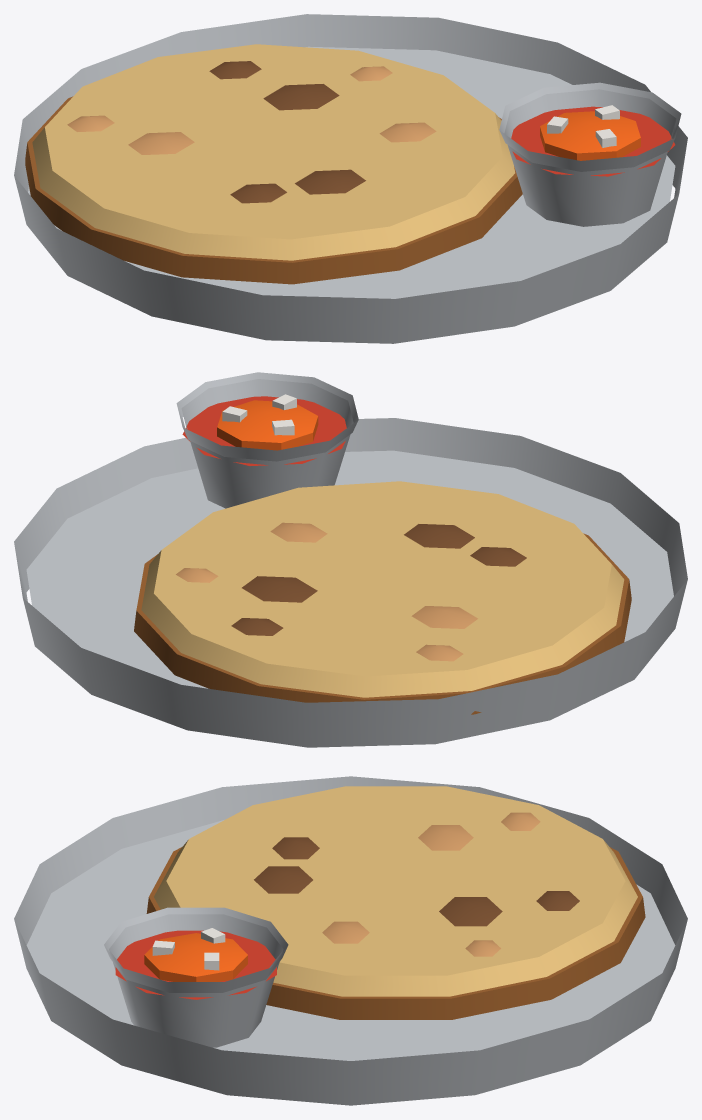
File: pass_lahsun_roti.glb
3 views of the same model, one above another, from view 1: azimuth 30°, elevation 25°; view 2: azimuth 150°, elevation 25°; view 3: azimuth 270°, elevation 25° (orthographic).
Parts seen in each view (by area): view 1: pass_lahsun_roti; view 2: pass_lahsun_roti; view 3: pass_lahsun_roti.
Boxes of the visible parts, box(x1,y1,x2,y2) form: pass_lahsun_roti: box(14, 14, 687, 343); pass_lahsun_roti: box(14, 372, 687, 747); pass_lahsun_roti: box(14, 776, 687, 1105).
Size of the model in its own units: 0.27 by 0.045 by 0.27.
1 material, 1 textured.
